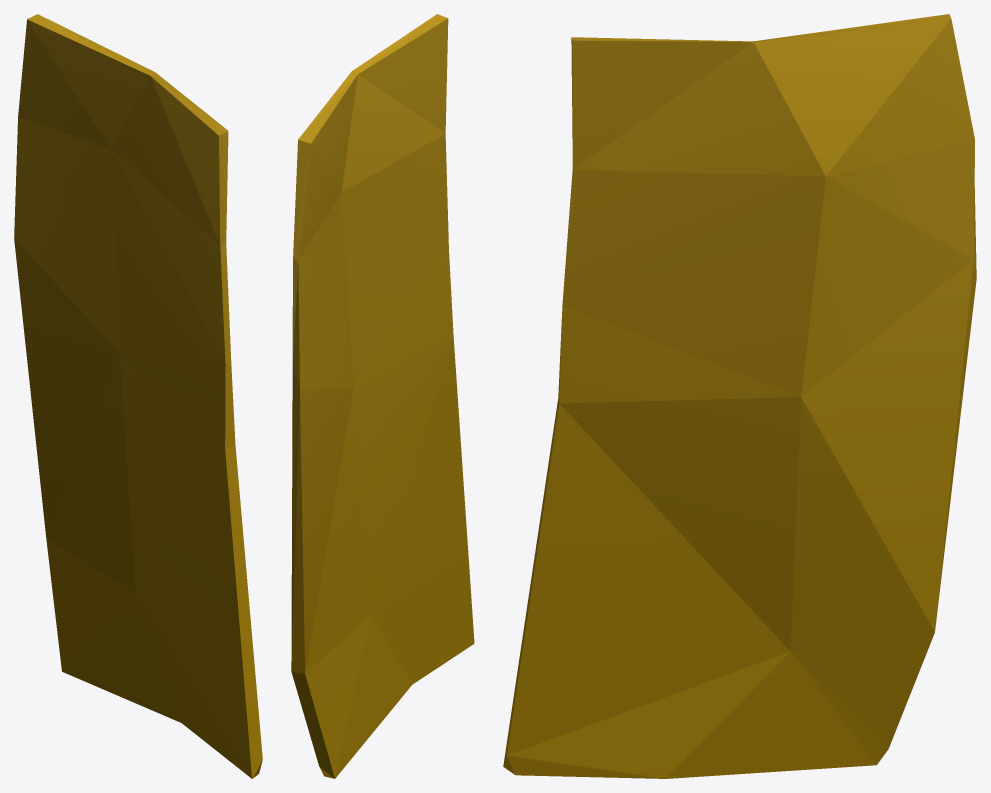
Rendered from Cloth_Yellow.fbx.
3 views of the same model, side by side, from view 1: azimuth 30°, elevation 25°; view 2: azimuth 150°, elevation 25°; view 3: azimuth 270°, elevation 25° (orthographic). The views are drawn at different scales.
Visible parts, largest first — view 1: Cloth_Yellow; view 2: Cloth_Yellow; view 3: Cloth_Yellow.
Part boxes in pixels (bbox=[...]): Cloth_Yellow: bbox=[14, 14, 262, 778]; Cloth_Yellow: bbox=[291, 14, 474, 778]; Cloth_Yellow: bbox=[503, 14, 976, 778].
Size of the model in its own units: 0.0675 by 0.6513 by 0.3761.
1 material, 1 textured.
